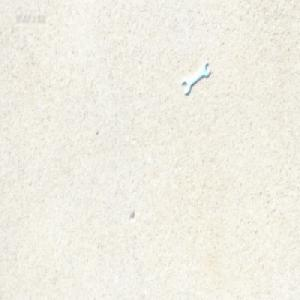Wrench: (182, 62, 209, 94)
